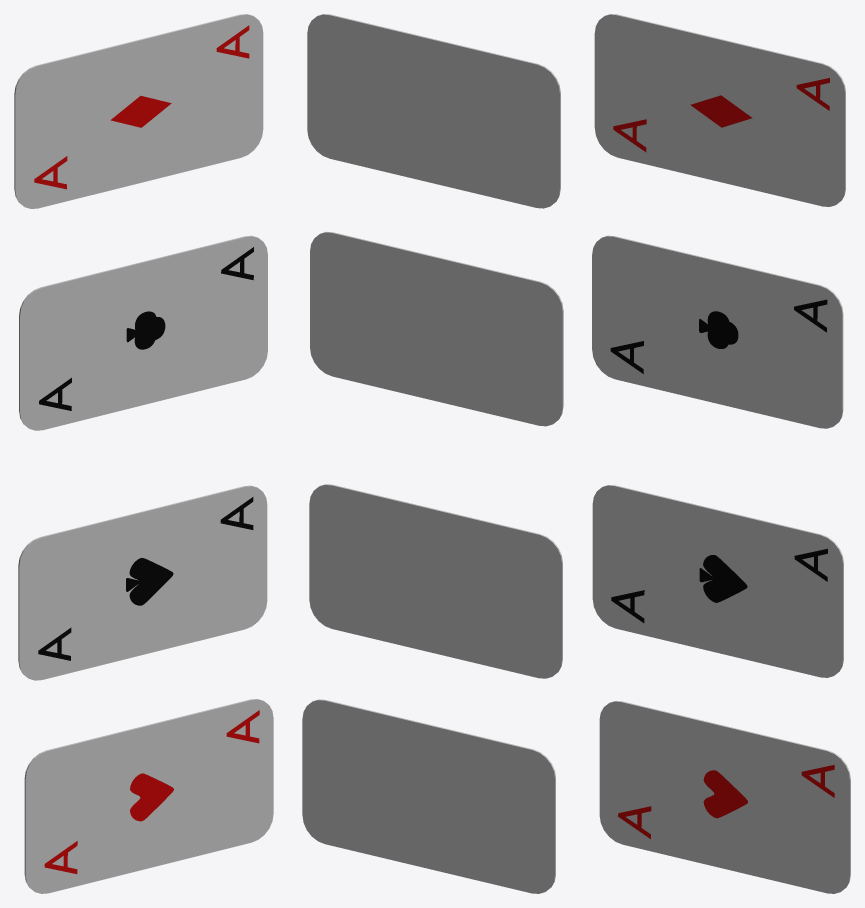
File: cards.obj
3 views of the same model, side by side, from view 1: azimuth 30°, elevation 25°; view 2: azimuth 150°, elevation 25°; view 3: azimuth 330°, elevation 25° (orthographic).
Parts seen in each view (by area): view 1: card_frame.003_Plane.012, card_frame.002_Plane.007, card_frame_Plane.001, card_frame.001_Plane.004, hearts_Plane.002, spades_Plane.003, Plane_Plane.013; view 2: card_frame.001_Plane.004, card_frame_Plane.001, card_frame.003_Plane.012, card_frame.002_Plane.007; view 3: card_frame.002_Plane.007, card_frame.003_Plane.012, card_frame_Plane.001, card_frame.001_Plane.004, spades_Plane.003, hearts_Plane.002, Plane_Plane.013.
Boxes of the visible parts, x1=… form: card_frame.003_Plane.012: x1=14, y1=14, x2=263, y2=208; card_frame.002_Plane.007: x1=19, y1=235, x2=267, y2=430; card_frame_Plane.001: x1=24, y1=699, x2=273, y2=893; card_frame.001_Plane.004: x1=18, y1=485, x2=267, y2=680; hearts_Plane.002: x1=130, y1=773, x2=173, y2=821; spades_Plane.003: x1=129, y1=558, x2=173, y2=605; Plane_Plane.013: x1=111, y1=95, x2=171, y2=127; card_frame.001_Plane.004: x1=309, y1=484, x2=562, y2=678; card_frame_Plane.001: x1=302, y1=699, x2=555, y2=893; card_frame.003_Plane.012: x1=307, y1=14, x2=560, y2=208; card_frame.002_Plane.007: x1=310, y1=231, x2=563, y2=426; card_frame.002_Plane.007: x1=592, y1=235, x2=843, y2=428; card_frame.003_Plane.012: x1=594, y1=14, x2=845, y2=206; card_frame_Plane.001: x1=599, y1=701, x2=850, y2=893; card_frame.001_Plane.004: x1=592, y1=485, x2=843, y2=677; spades_Plane.003: x1=703, y1=555, x2=747, y2=602; hearts_Plane.002: x1=703, y1=770, x2=747, y2=818; Plane_Plane.013: x1=690, y1=95, x2=752, y2=127.
Bounding box in the file's own units: 2.06 × 6.34 × 0.0875.
